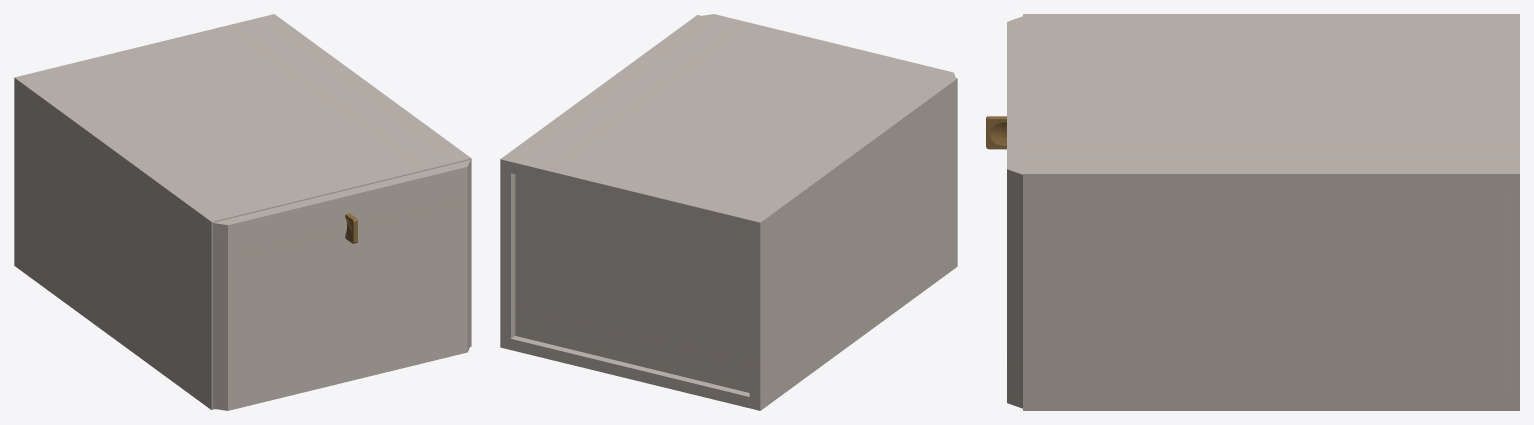
3 renders of one model, left to right at view 1: azimuth 30°, elevation 25°; view 2: azimuth 150°, elevation 25°; view 3: azimuth 270°, elevation 25°, orthographic. The views are drawn at different scales.
Visible parts, largest first — view 1: Object_58.001; view 2: Object_58.001; view 3: Object_58.001.
Boxes of the visible parts, <box> form: Object_58.001: <box>14,14,471,410</box>; Object_58.001: <box>500,14,957,410</box>; Object_58.001: <box>986,14,1519,410</box>.
Size of the model in its own units: 0.434 by 0.3 by 0.6121.
Materials: 2 (2 with a texture image).
